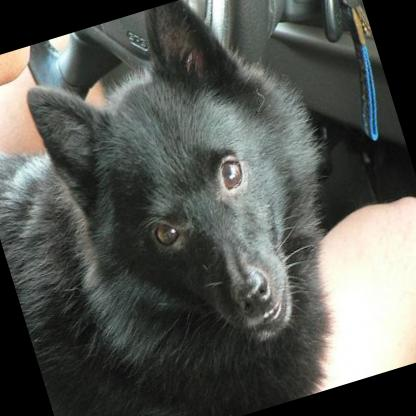schipperke: (0, 0, 385, 416)
